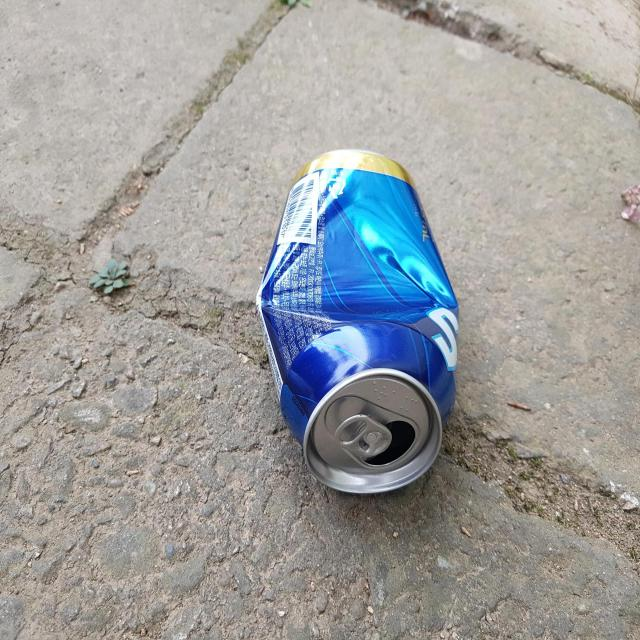can: (256, 149, 459, 494)
